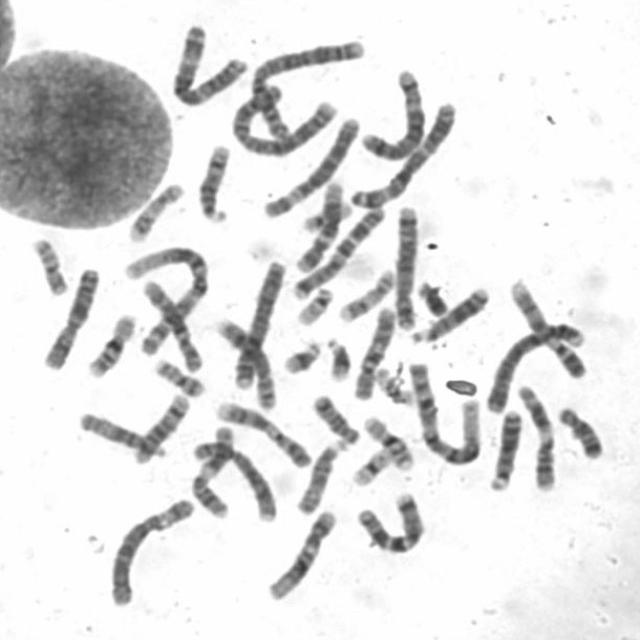A1: (117, 238, 213, 368), (399, 354, 484, 467)
A2: (242, 32, 370, 148), (225, 80, 341, 158)
A3: (344, 92, 461, 210), (164, 15, 250, 107)
B4: (478, 315, 588, 415), (226, 252, 288, 390)
B5: (355, 60, 428, 161), (387, 199, 422, 332)
C10: (134, 272, 205, 375), (346, 299, 399, 402)
C11: (511, 377, 559, 493), (184, 419, 237, 520)
C12: (260, 501, 339, 602), (289, 174, 345, 273)
C6: (256, 108, 363, 220), (102, 490, 197, 608)
C7: (286, 199, 388, 301), (349, 484, 428, 554)
C8: (185, 432, 280, 524), (207, 311, 278, 412)
C9: (502, 271, 588, 380), (210, 394, 314, 469)
D13: (403, 279, 491, 345), (482, 402, 524, 493)
D14: (127, 386, 192, 464), (190, 136, 234, 225)
D15: (71, 404, 170, 462), (290, 431, 350, 516)
E16: (80, 306, 138, 379), (356, 408, 416, 472)
E17: (120, 176, 186, 243), (332, 262, 398, 323)
E18: (551, 398, 606, 461), (305, 388, 361, 446)
F19: (344, 442, 394, 488), (296, 195, 352, 232)
F20: (24, 230, 71, 297), (147, 350, 207, 398)
G21: (276, 332, 323, 375), (319, 330, 355, 383)
G22: (368, 360, 417, 407), (288, 280, 336, 327)
X: (34, 260, 102, 371)
Y: (411, 274, 450, 319)
